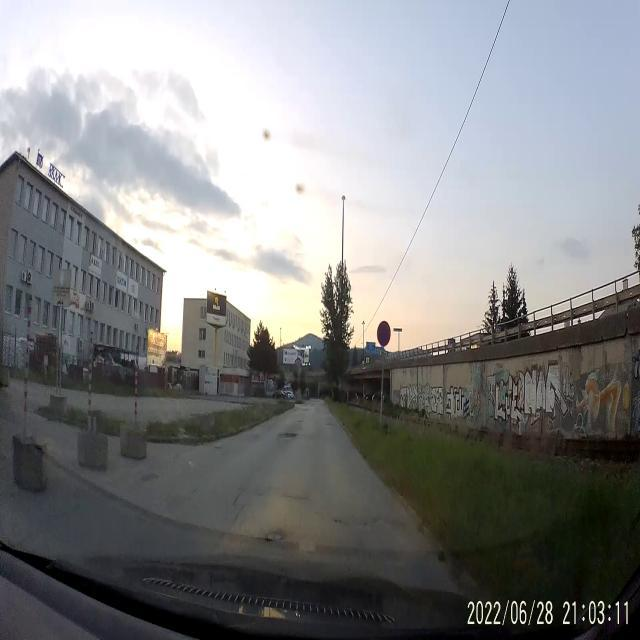Pothole: (278, 429, 298, 442)
